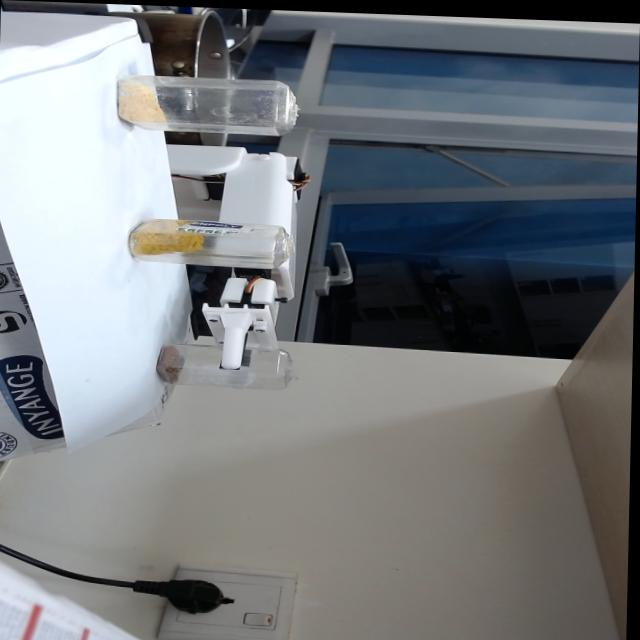cooking_pot: (152, 8, 229, 76)
curry_powder: (128, 216, 193, 257)
garlic_powder: (120, 85, 157, 125)
maggie_open: (156, 346, 185, 384)
